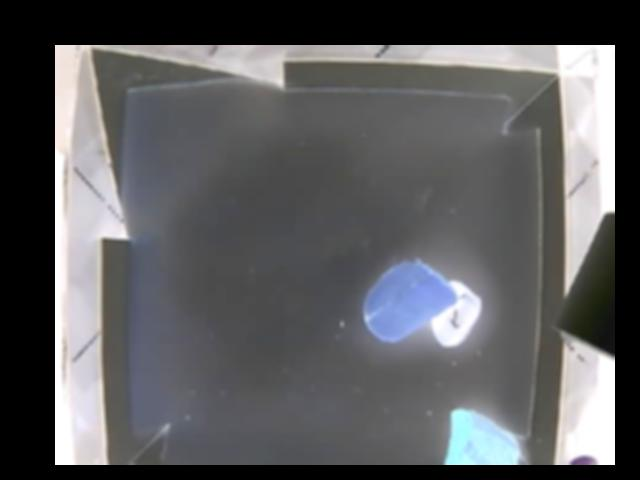Brisk: (443, 409, 518, 464)
Pebble: (432, 276, 480, 347)
Potato: (360, 262, 451, 342)
